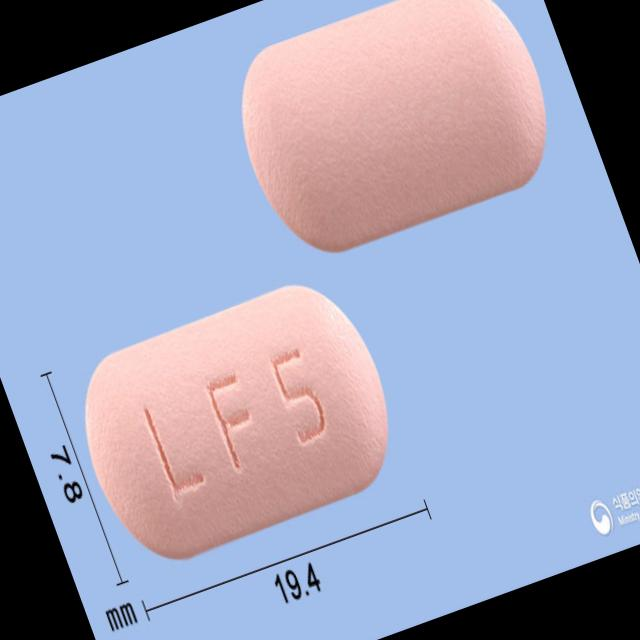Uropenta Tab: (59, 266, 417, 576)
